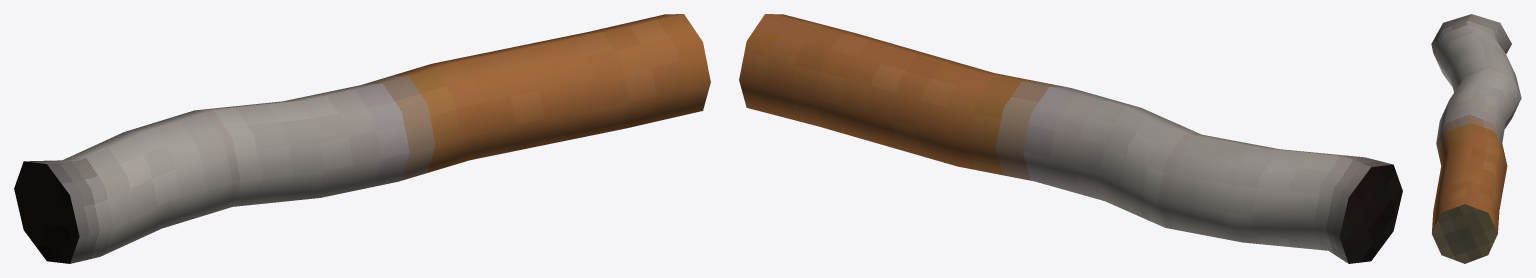
Rendered from cig_2.glb.
3 renders of one model, left to right at view 1: azimuth 30°, elevation 25°; view 2: azimuth 150°, elevation 25°; view 3: azimuth 270°, elevation 25°, orthographic. The views are drawn at different scales.
Visible parts, largest first — view 1: cig_2; view 2: cig_2; view 3: cig_2.
Part boxes in pixels (x1,y1,x2,y2): cig_2: (14,14,710,263); cig_2: (739,14,1402,263); cig_2: (1431,14,1521,263).
Size of the model in its own units: 0.0918 by 0.0135 by 0.0184.
1 material, 1 textured.
